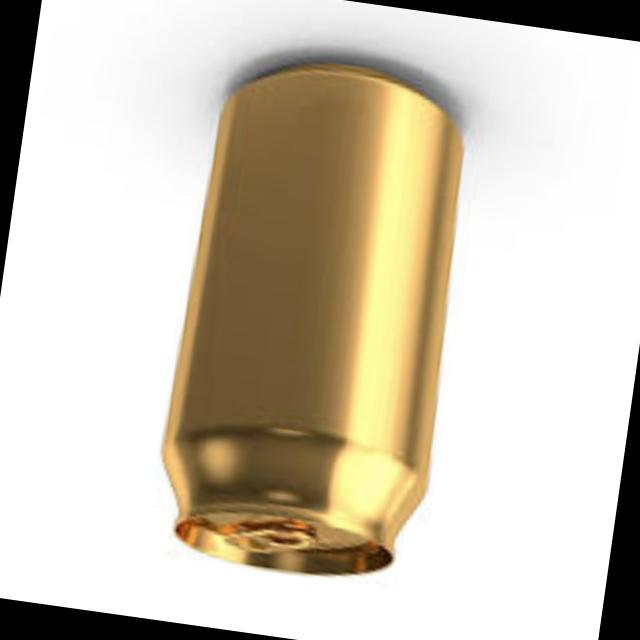metal: (168, 72, 466, 580)
